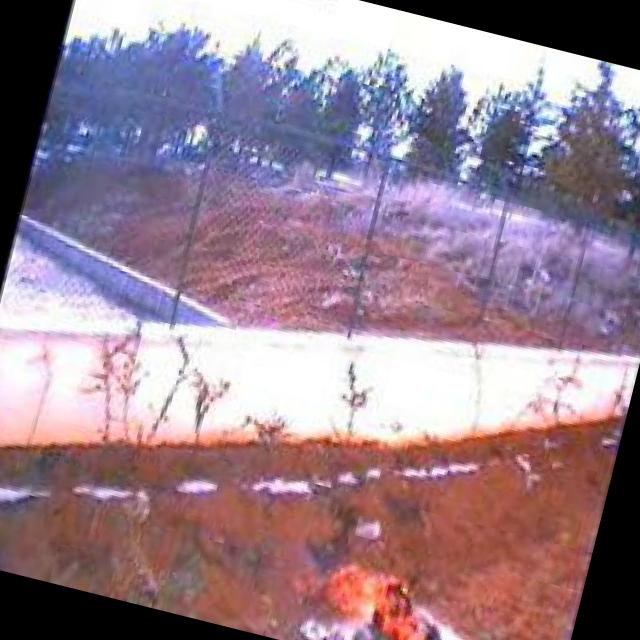Fire: (282, 545, 455, 640)
